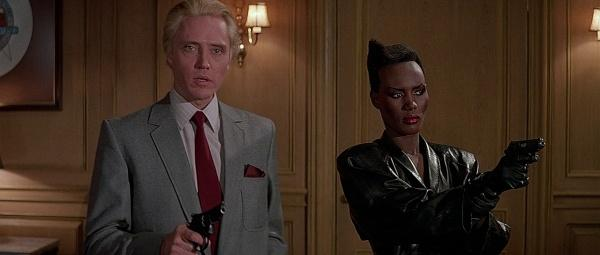Gun: (187, 200, 227, 243), (505, 138, 547, 166)
